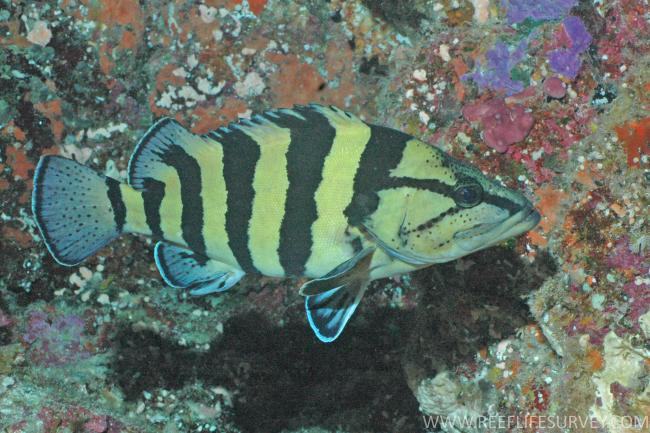fish: (32, 104, 543, 343)
